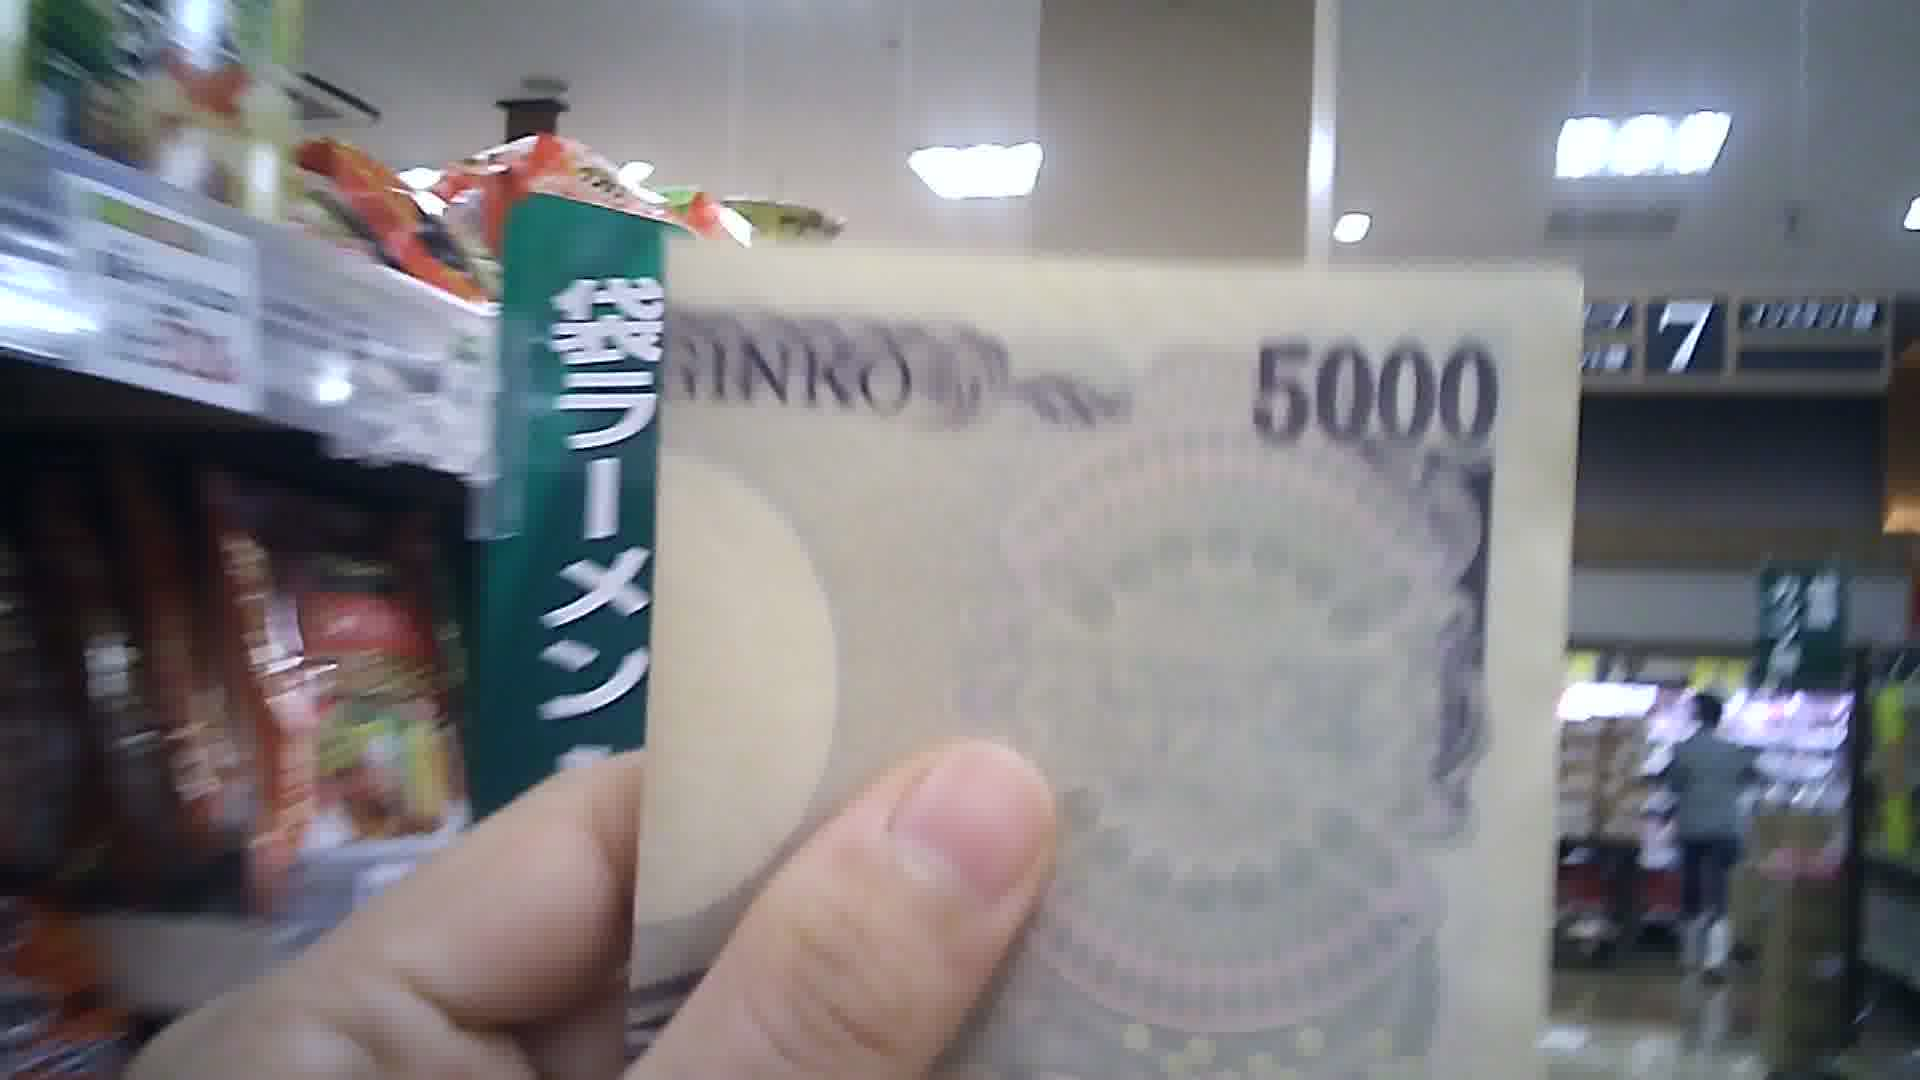5,000 Yen: (616, 214, 1601, 1069)
